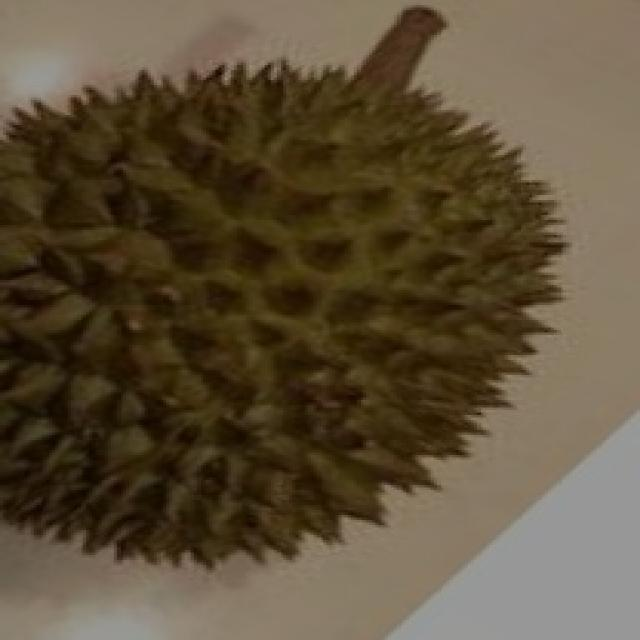fruit: (0, 235, 385, 613)
